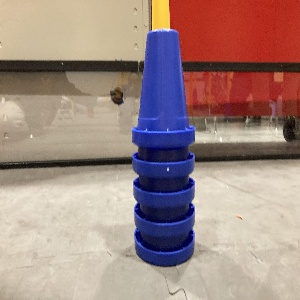Blue_5: (130, 28, 195, 267)
